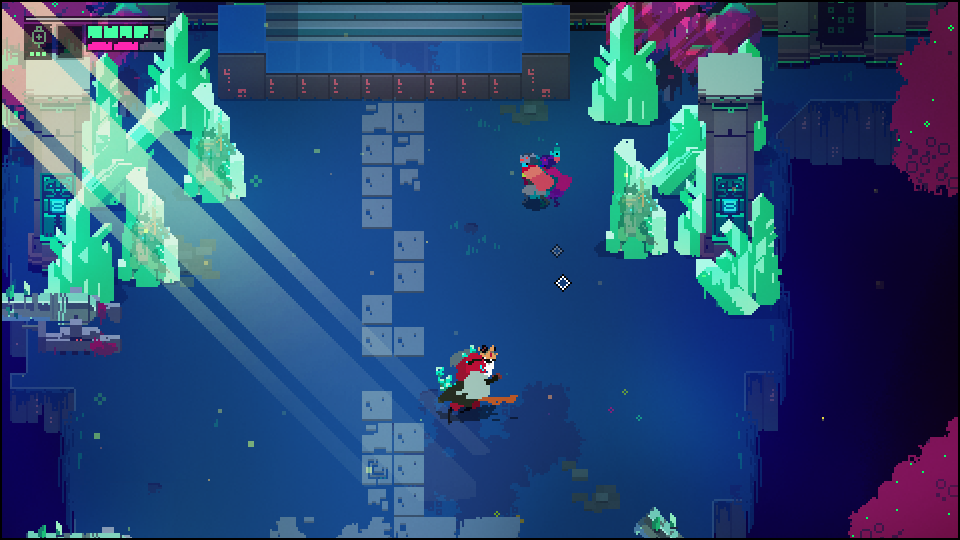hanged_man: (435, 344, 520, 412)
player: (517, 156, 553, 205)
